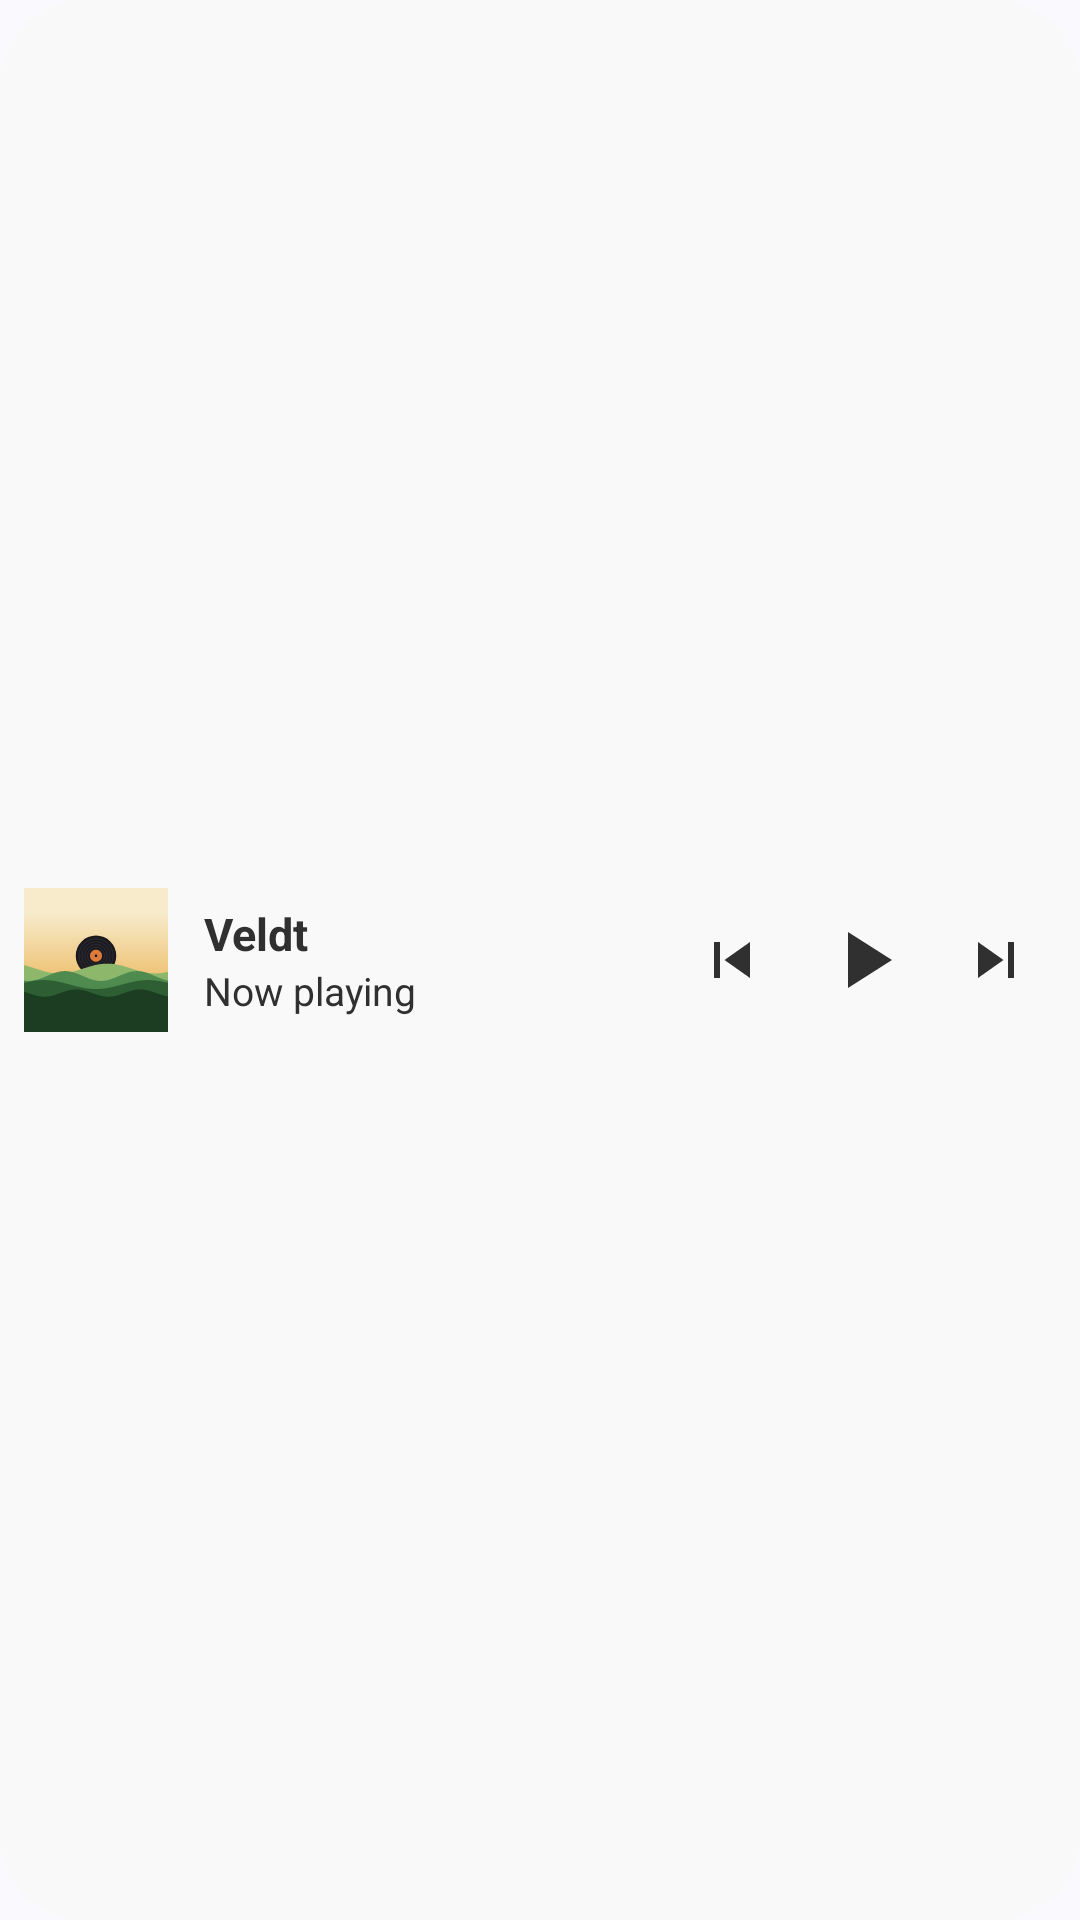

Point at icon controls on the screen. Image size 1080px x 1920px, points as (x,y).
widget empty art: (96,960)
widget next: (996,960)
widget play: (870,960)
widget prev: (732,960)
